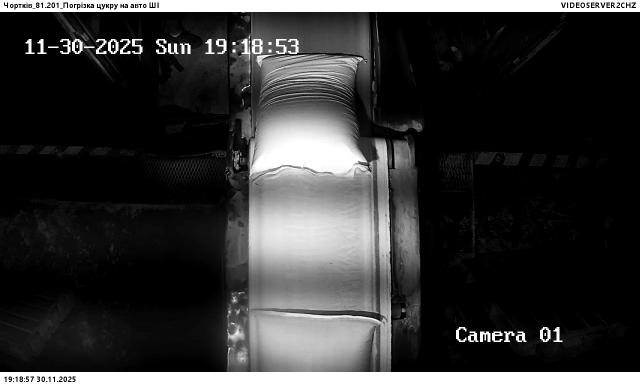bag: (252, 55, 371, 179), (255, 311, 382, 373)
